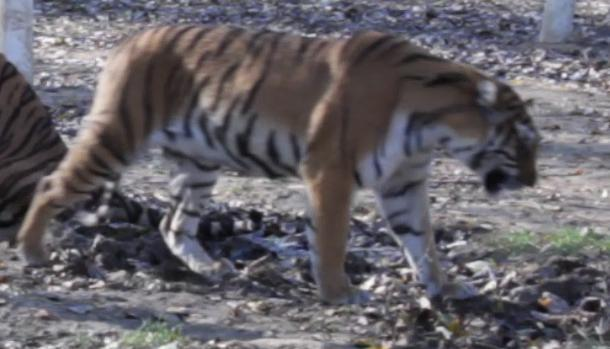tiger: (19, 24, 538, 301)
